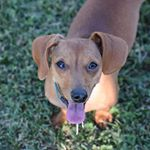puppy: (31, 1, 137, 132)
